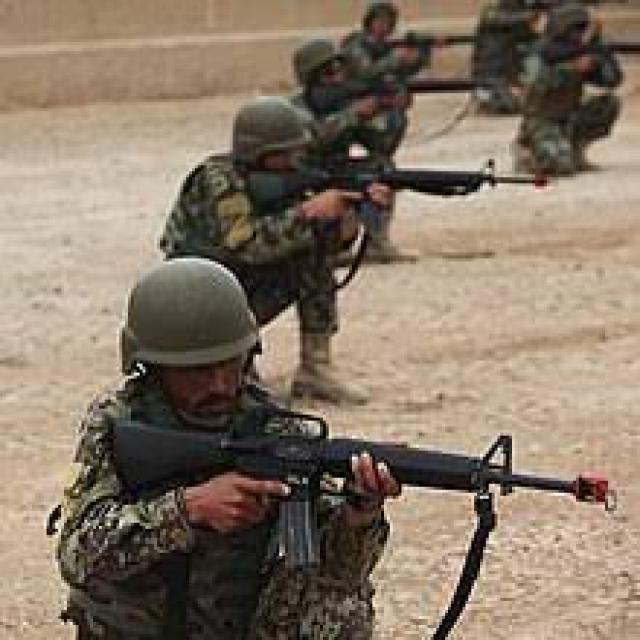m16: (80, 336, 628, 608)
